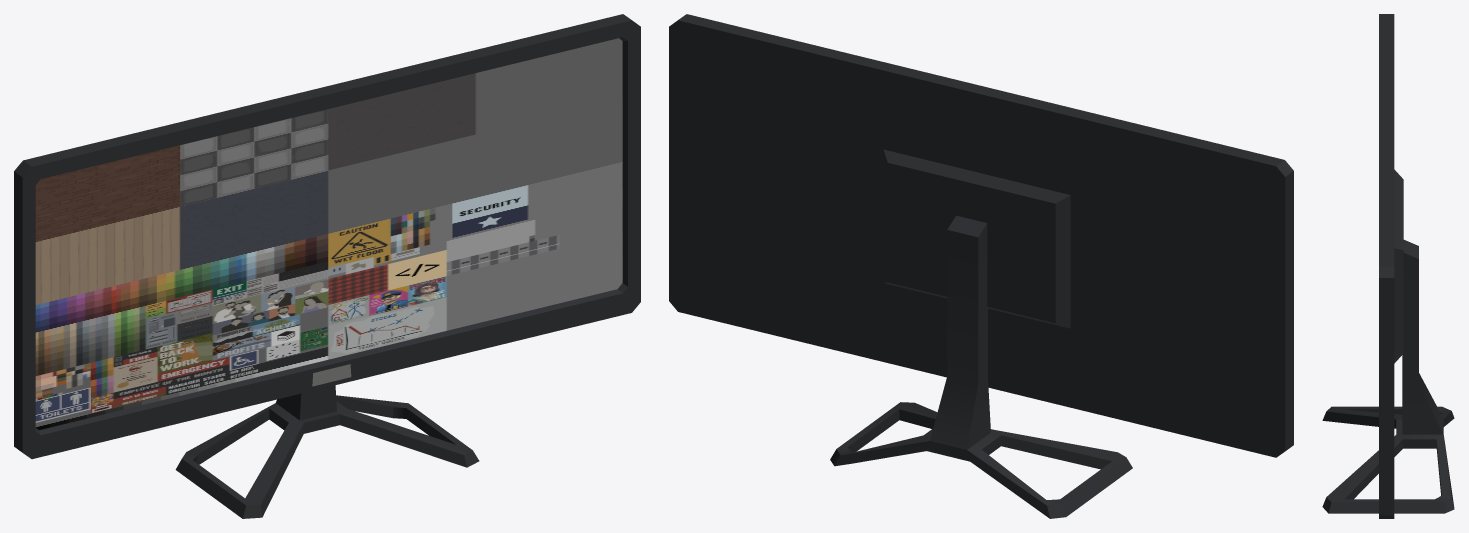
File: SM_Prop_Computer_Monitor_05.glb
3 renders of one model, left to right at view 1: azimuth 30°, elevation 25°; view 2: azimuth 150°, elevation 25°; view 3: azimuth 270°, elevation 25°, orthographic. The views are drawn at different scales.
Visible parts, largest first — view 1: SM_Prop_Computer_Monitor_05; view 2: SM_Prop_Computer_Monitor_05; view 3: SM_Prop_Computer_Monitor_05.
Boxes of the visible parts, box(x1,y1,x2,y2) form: SM_Prop_Computer_Monitor_05: box(14, 14, 640, 518); SM_Prop_Computer_Monitor_05: box(669, 14, 1293, 518); SM_Prop_Computer_Monitor_05: box(1322, 14, 1454, 518).
Bounding box in the file's own units: 1.03 × 0.5951 × 0.2203.
Materials: 1 (1 with a texture image).
